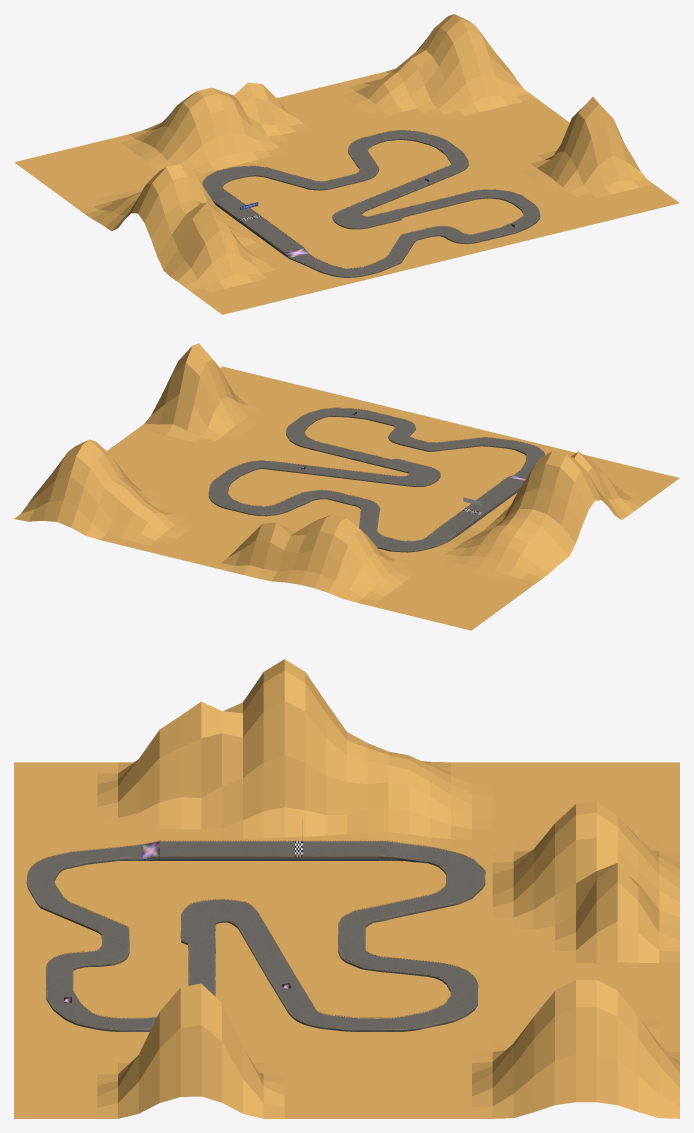
The model's file is mapaprototipo2 (1).fbx.
The picture shows the model from 3 angles, top to bottom: view 1: azimuth 30°, elevation 25°; view 2: azimuth 150°, elevation 25°; view 3: azimuth 270°, elevation 25°; orthographic projection. The views are drawn at different scales.
Parts seen in each view (by area): view 1: Plane.001, circuito, valla.005, paramesh, valla.002; view 2: Plane.001, circuito, valla.005, paramesh, valla.002; view 3: Plane.001, circuito, paramesh, valla.005, valla.002.
Boxes of the visible parts, x1,y1,x2,y2 form: Plane.001: (14,14,679,314); circuito: (202,130,540,277); valla.005: (203,130,539,276); paramesh: (290,168,454,262); valla.002: (222,138,451,227); Plane.001: (14,343,679,630); circuito: (208,408,545,552); valla.005: (209,407,544,550); paramesh: (271,462,529,482); valla.002: (227,467,440,541); Plane.001: (14,659,679,1118); circuito: (26,841,485,1031); paramesh: (119,844,313,1007); valla.005: (27,840,484,1029); valla.002: (183,855,451,1018).
Size of the model in its own units: 140574 by 23720 by 110981.
